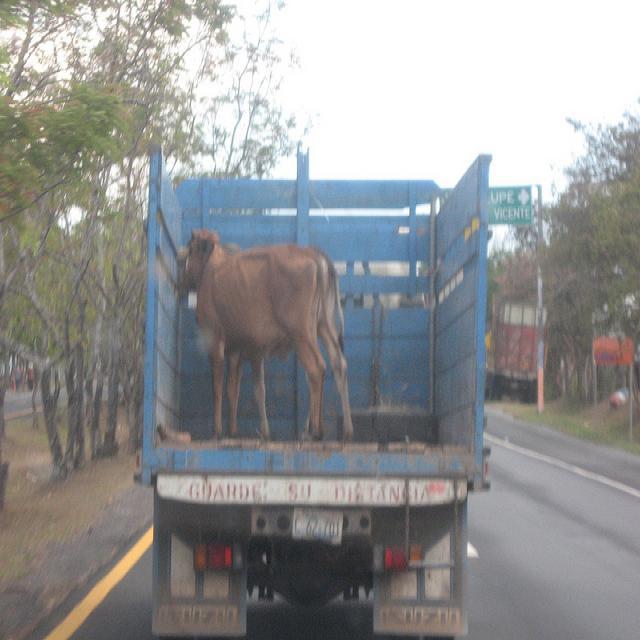Vehicle: (140, 146, 495, 632)
